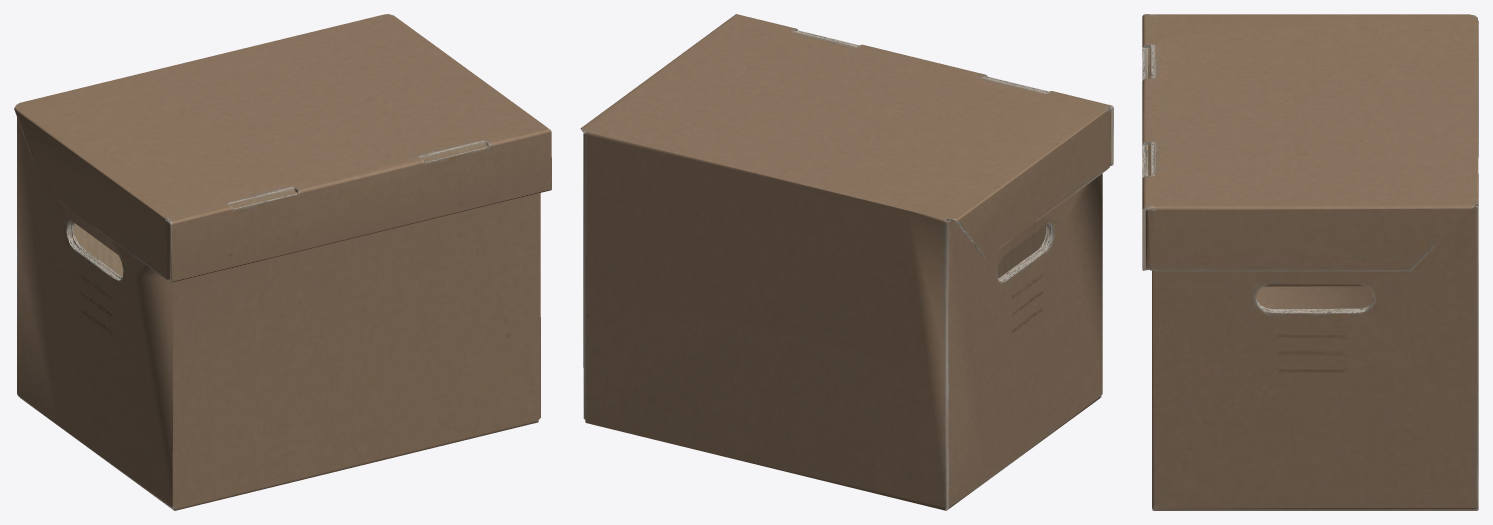
Rendered from pappis_pudeko_z_pokrywka_00100467.glb.
3 renders of one model, left to right at view 1: azimuth 30°, elevation 25°; view 2: azimuth 150°, elevation 25°; view 3: azimuth 270°, elevation 25°, orthographic. The views are drawn at different scales.
Visible parts, largest first — view 1: pappis_pudeko_z_pokrywka_00100467; view 2: pappis_pudeko_z_pokrywka_00100467; view 3: pappis_pudeko_z_pokrywka_00100467.
Boxes of the visible parts, bbox=[...] form: pappis_pudeko_z_pokrywka_00100467: bbox=[14, 14, 551, 510]; pappis_pudeko_z_pokrywka_00100467: bbox=[580, 14, 1113, 510]; pappis_pudeko_z_pokrywka_00100467: bbox=[1142, 14, 1478, 510].
Size of the model in its own units: 0.3464 by 0.2564 by 0.2537.
1 material, 1 textured.
